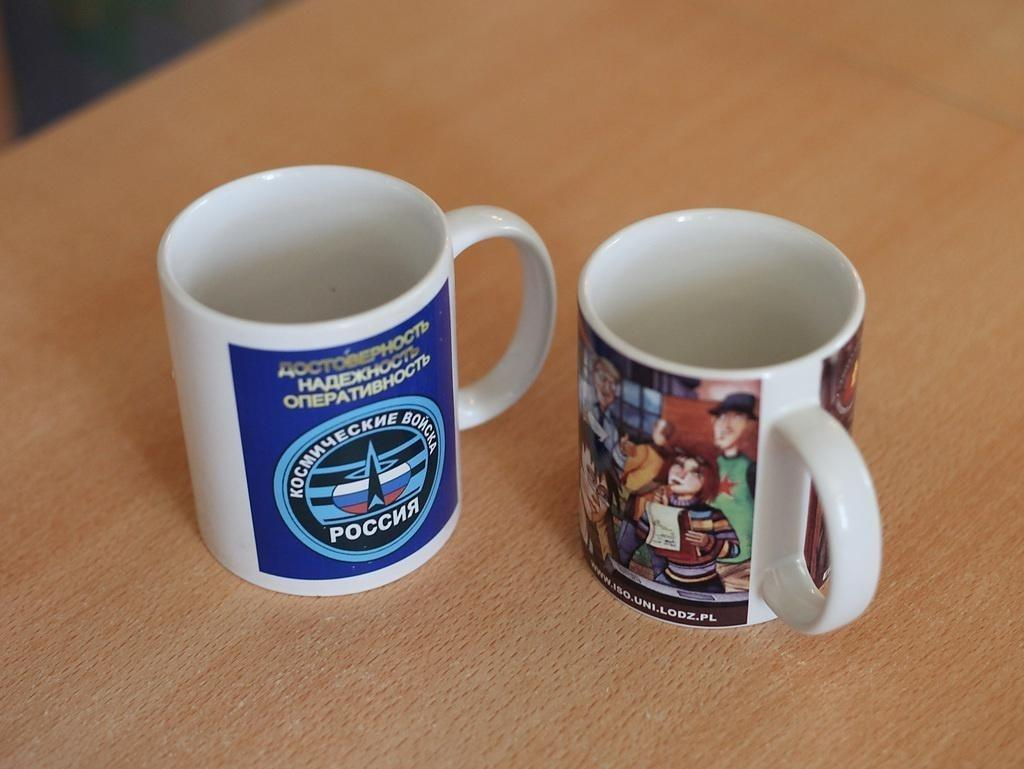cup-handle: (154, 160, 560, 599), (574, 203, 881, 636)
